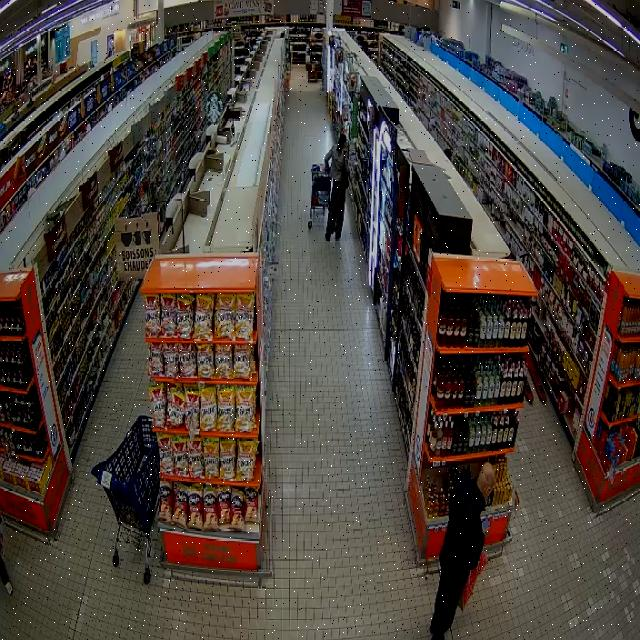bags: (341, 149, 350, 190)
person: (430, 463, 495, 639), (325, 134, 347, 241)
